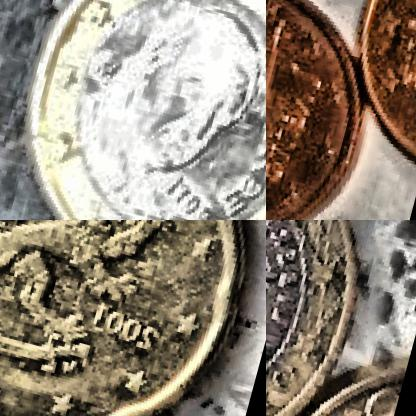coin: (0, 0, 265, 219), (0, 220, 265, 415), (266, 0, 394, 219), (266, 220, 398, 415)
